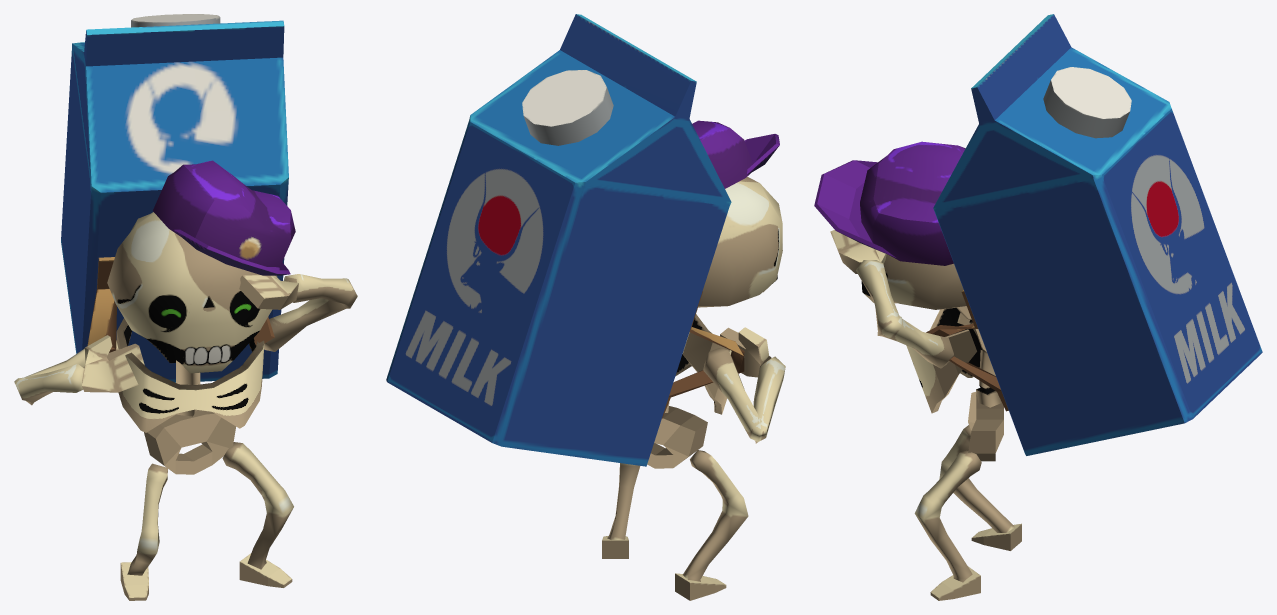
The model's file is Milkman_Morpher.fbx.
The picture shows the model from 3 angles, left to right: view 1: azimuth 30°, elevation 25°; view 2: azimuth 150°, elevation 25°; view 3: azimuth 270°, elevation 25°; orthographic projection. The views are drawn at different scales.
Visible parts, largest first — view 1: 1; view 2: 1; view 3: 1.
Boxes of the visible parts, <box> form: 1: <box>14,14,357,600</box>; 1: <box>386,14,785,600</box>; 1: <box>814,14,1262,600</box>.
Bounding box in the file's own units: 155 × 257 × 201.
1 material, 1 textured.
